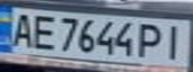4: (112, 19, 139, 57), (93, 18, 118, 56)
6: (75, 17, 100, 54)
7: (54, 15, 78, 53)
A: (6, 10, 39, 48)
E: (27, 12, 60, 51)
I: (160, 21, 190, 61)
P: (136, 20, 166, 58)
